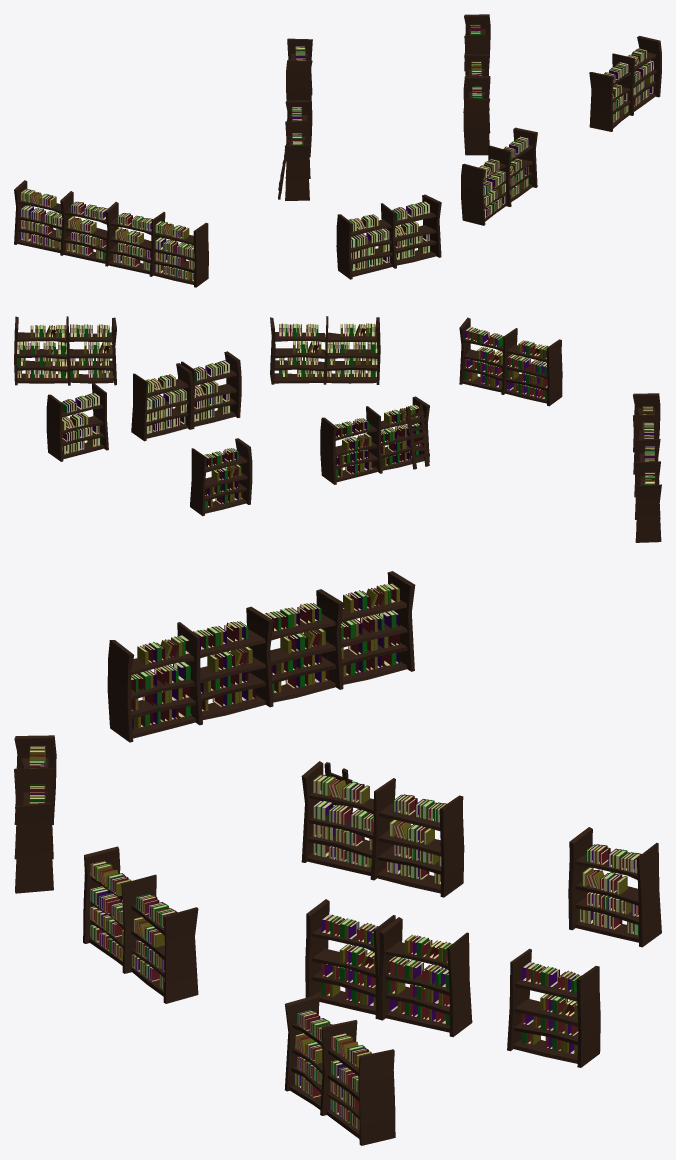
File: LabBooks.fbx
3 views of the same model, one above another, from view 1: azimuth 30°, elevation 25°; view 2: azimuth 150°, elevation 25°; view 3: azimuth 270°, elevation 25° (orthographic). The views are drawn at different scales.
Parts seen in each view (by area): view 1: Cube.1328, Cube.1330, Cube.1336, Cube.1333, Cube.607, Cube.1332, Cube.1331, Cube.609, Cube.1327, Cube.608, Cube.1342, Cube.619 (+14 smaller); view 2: Cube.1342, Cube.1339, Cube.1343, Cube.1334, Cube.1328, Cube.1330, Cube.1332, Cube.1329, Cube.1333, Cube.599, Cube.605, Cube.1331 (+17 smaller); view 3: Cube.1343, Cube.1334, Cube.1336, Cube.1332, Cube.1342, Cube.1339, Cube.1335, Cube.1333, Cube.1337, Cube.1329, Cube.699, Cube.1338 (+18 smaller).
Part boxes in pixels (x1,y1,x2,y2): Cube.1328: (336,203,396,279); Cube.1330: (461,145,511,225); Cube.1336: (149,212,208,287); Cube.1333: (463,77,490,155); Cube.607: (20,189,62,249); Cube.1332: (612,36,661,115); Cube.1331: (589,72,631,131); Cube.609: (154,221,194,281); Cube.1327: (395,194,441,265); Cube.608: (66,201,107,260); Cube.1342: (286,38,312,106); Cube.619: (113,213,152,270); Cube.1342: (190,438,252,516); Cube.1339: (131,363,193,441); Cube.1343: (320,406,382,484); Cube.1334: (46,383,108,461); Cube.1328: (501,328,562,406); Cube.1330: (323,316,380,384); Cube.1332: (14,316,70,385); Cube.1329: (270,317,325,384); Cube.1333: (181,351,241,429); Cube.599: (16,325,67,378); Cube.605: (507,340,548,399); Cube.1331: (69,317,116,385); Cube.1343: (370,778,464,897); Cube.1334: (507,948,600,1067); Cube.1336: (107,622,202,742); Cube.1332: (320,1020,395,1145); Cube.1342: (568,827,661,947); Cube.1339: (378,917,472,1036); Cube.1335: (200,606,273,719); Cube.1333: (305,899,395,1019); Cube.1337: (270,589,343,702); Cube.1329: (131,904,198,1003); Cube.699: (313,774,373,867); Cube.1338: (341,571,415,684).
Size of the model in its own units: 24.66 by 2.14 by 13.79.
